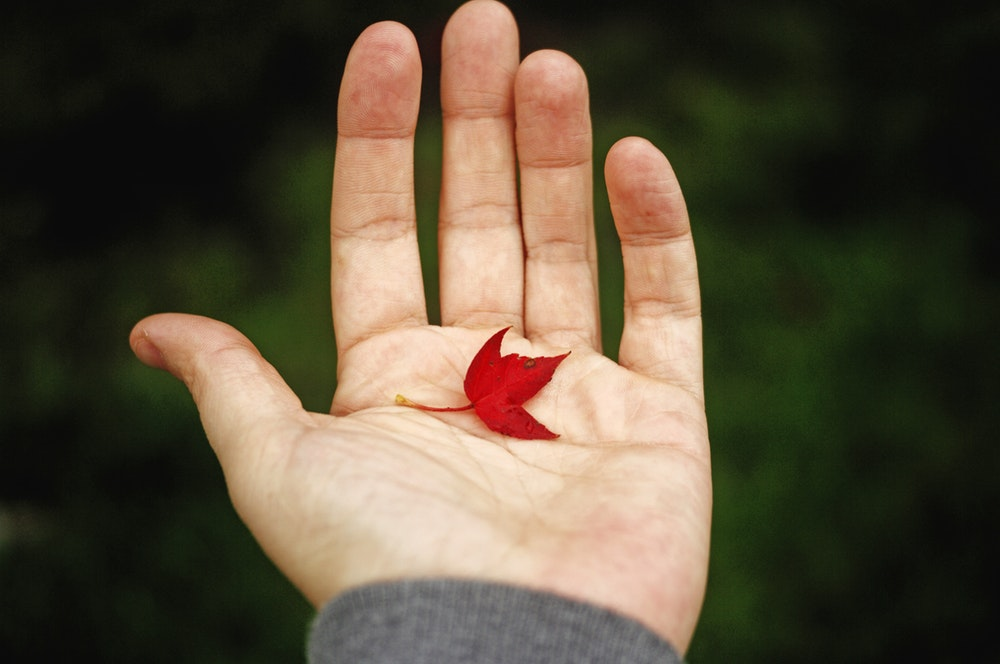palm: (332, 326, 691, 595)
